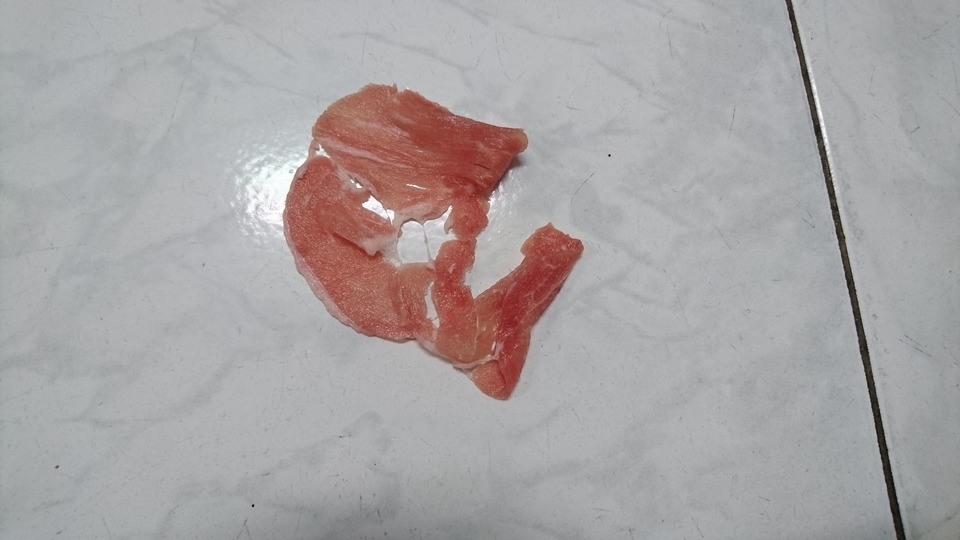restructured meat: (280, 79, 586, 409)
